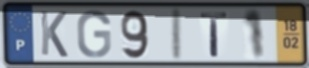1: (241, 7, 267, 62)
9: (119, 9, 151, 61)
G: (75, 8, 113, 60)
I: (169, 6, 185, 63)
K: (38, 9, 70, 59)
T: (198, 11, 230, 59)
